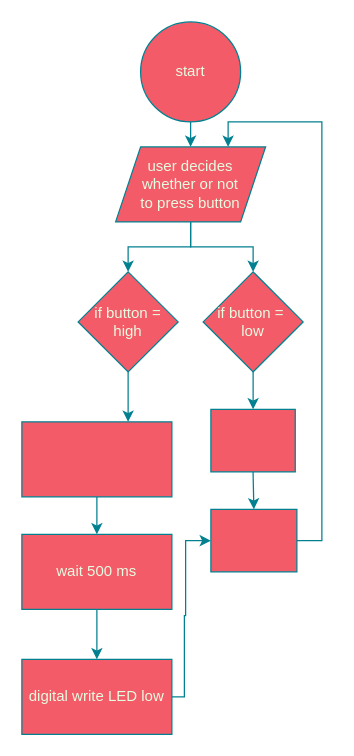
This 354x756 diagram has some shape labels left out. The centre of each missing label's shape, as x and y in pixels:
digital write LED high: the point at 96,459
loop: the point at 253,540
nothing happens: the point at 252,440
